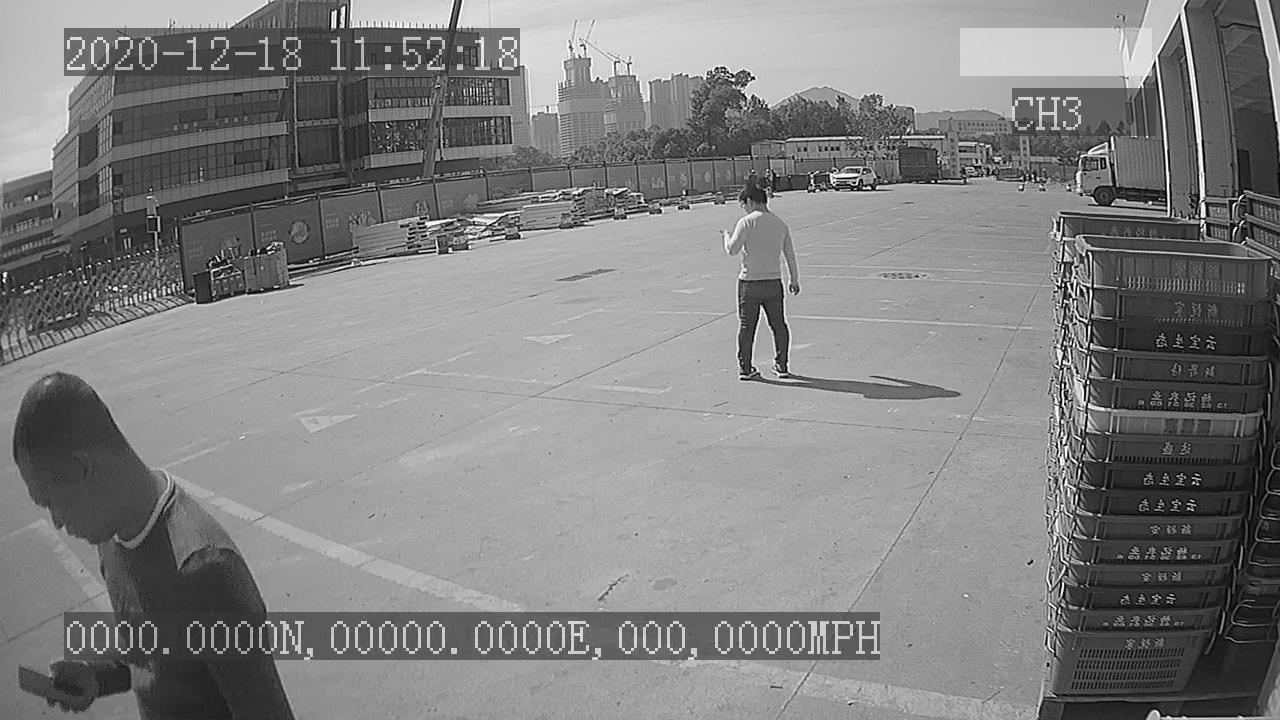person: (715, 183, 804, 388)
